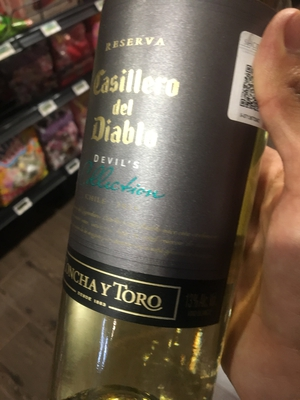casillero del diablo devils collection verde: (53, 1, 272, 400)
